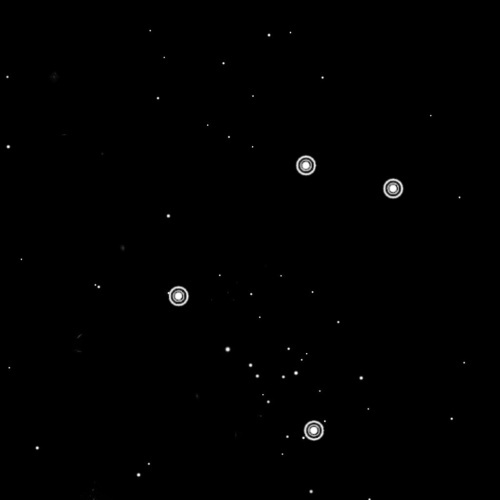coma_berenices: (161, 154, 409, 453)
